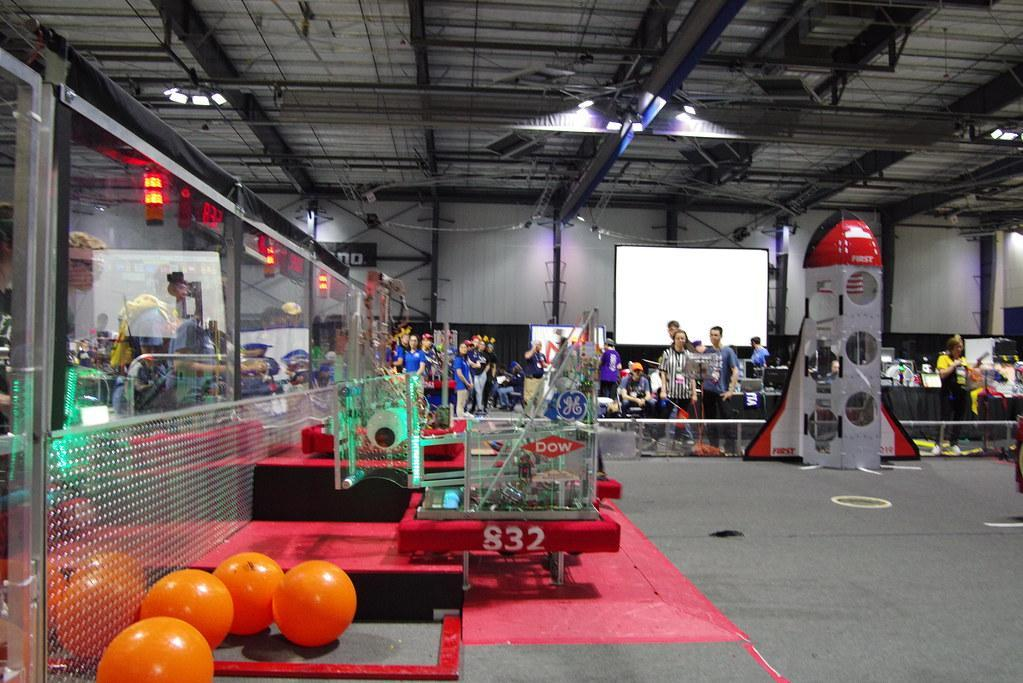robot: (393, 376, 632, 606), (292, 267, 473, 492), (469, 297, 627, 513)
